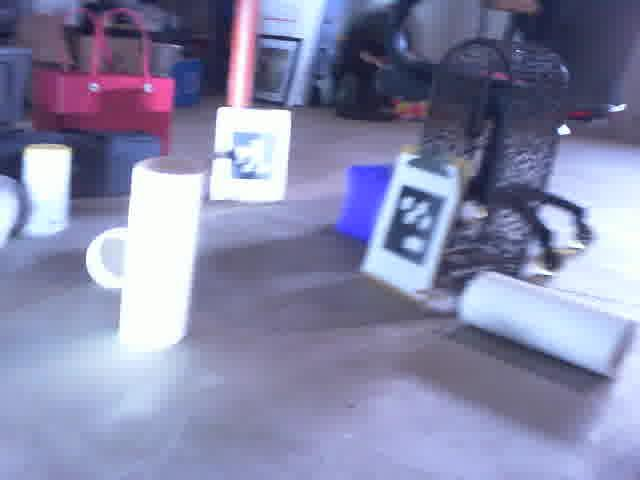coral: (141, 155, 206, 351), (85, 228, 133, 288)
